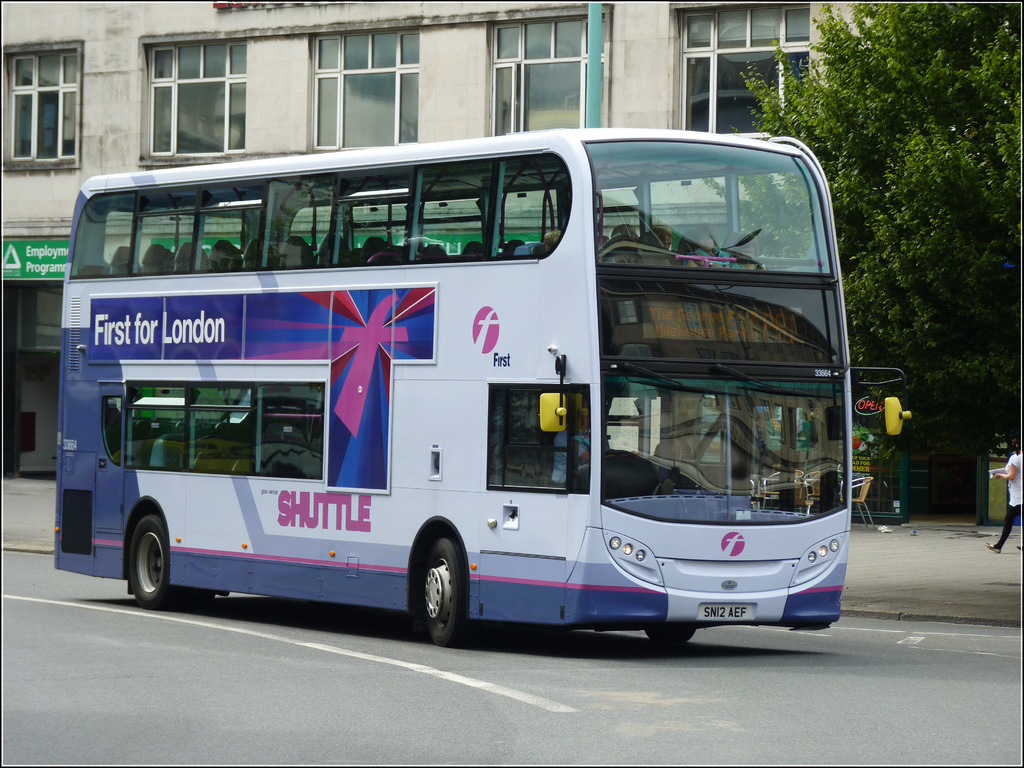Bus: (48, 122, 912, 645)
